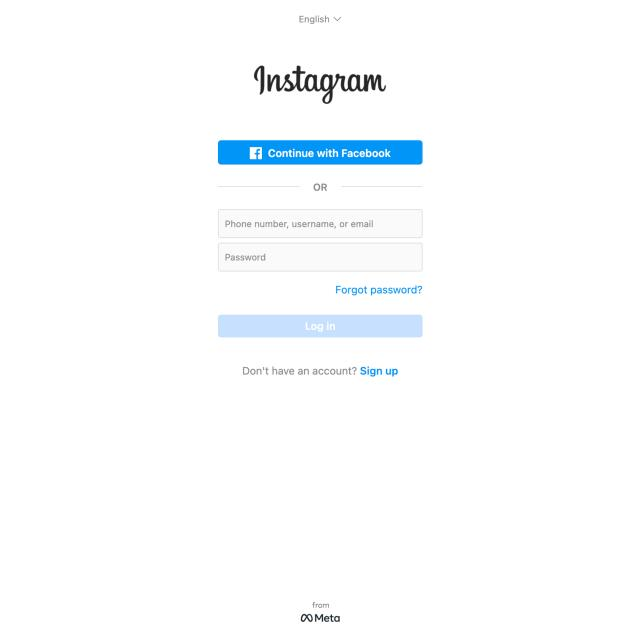input: (218, 242, 423, 272), (219, 209, 423, 239)
logo: (252, 58, 392, 106)
